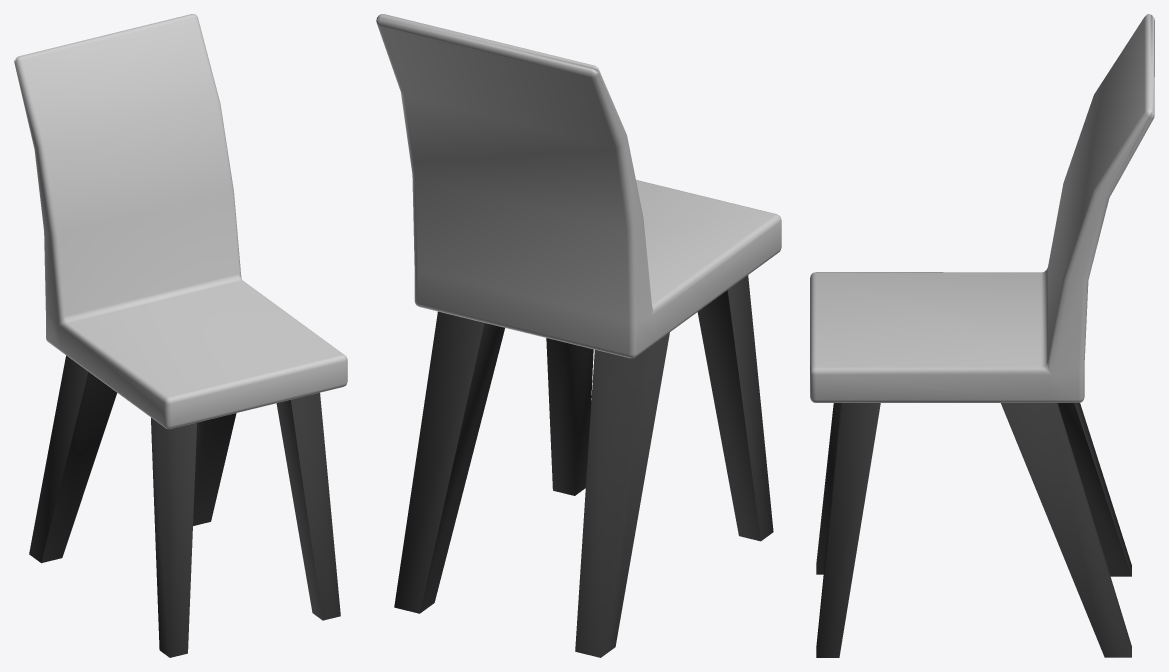
The model's file is chair.obj.
3 views of the same model, side by side, from view 1: azimuth 30°, elevation 25°; view 2: azimuth 150°, elevation 25°; view 3: azimuth 270°, elevation 25° (orthographic). The views are drawn at different scales.
Visible parts, largest first — view 1: Cube, Cube.002; view 2: Cube, Cube.002; view 3: Cube, Cube.002.
Boxes of the visible parts, x1=… form: Cube: x1=14, y1=14, x2=347, y2=429; Cube.002: x1=29, y1=355, x2=340, y2=657; Cube: x1=376, y1=14, x2=781, y2=358; Cube.002: x1=394, y1=275, x2=773, y2=657; Cube: x1=810, y1=14, x2=1154, y2=402; Cube.002: x1=816, y1=403, x2=1131, y2=657.
Bounding box in the file's own units: 0.6 × 1.55 × 0.8795.
2 materials, 1 textured.
